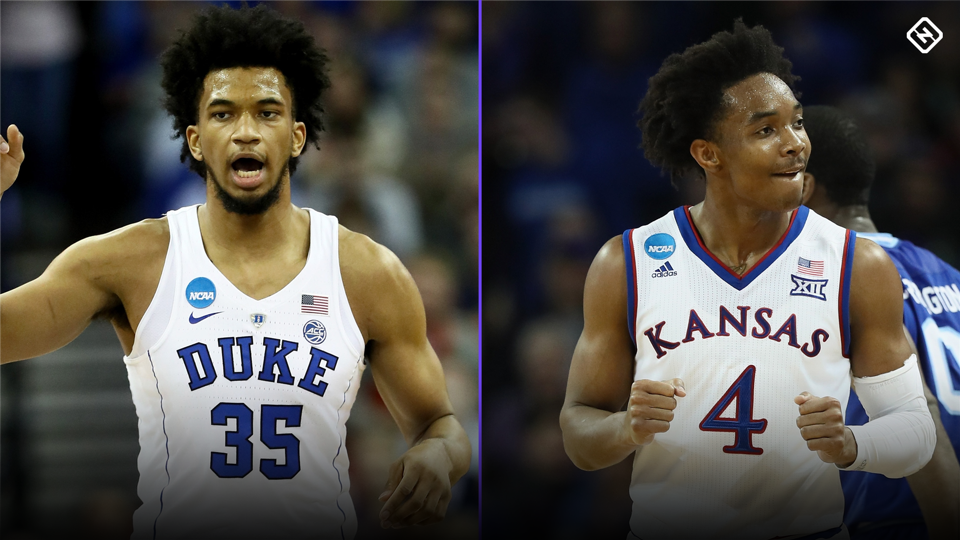player: (1, 14, 473, 535), (559, 34, 936, 535)
